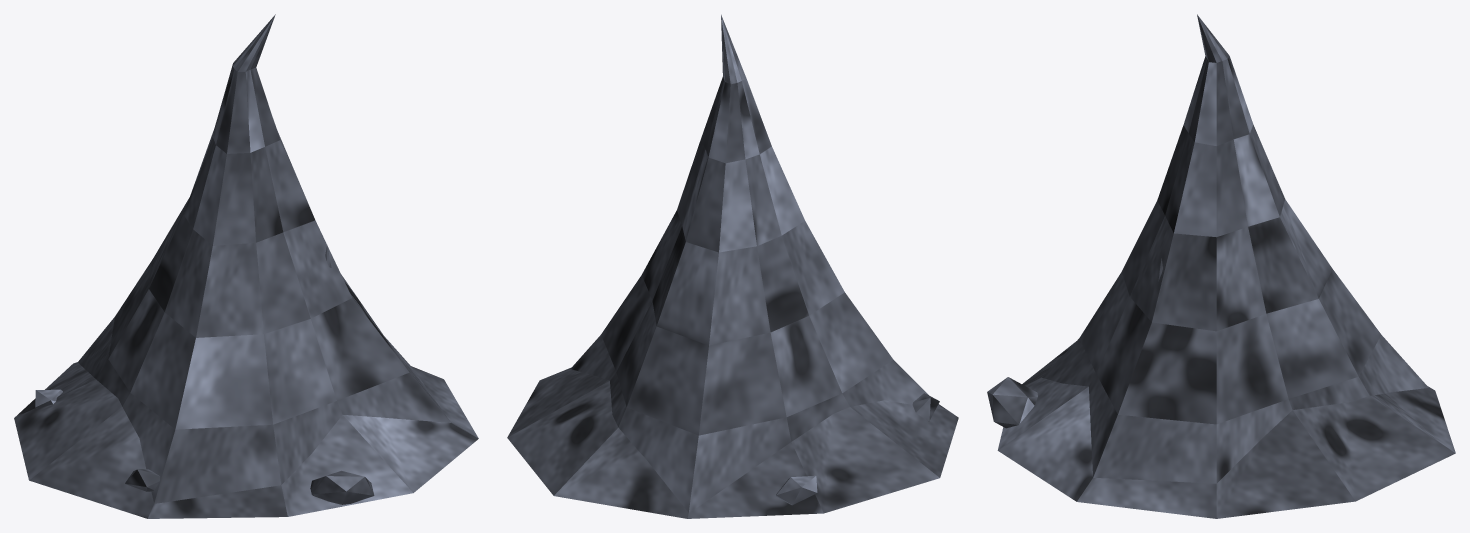
File: MountainB.fbx
The picture shows the model from 3 angles, left to right: view 1: azimuth 30°, elevation 25°; view 2: azimuth 150°, elevation 25°; view 3: azimuth 270°, elevation 25°; orthographic projection. The views are drawn at different scales.
Visible parts, largest first — view 1: MountainB_Peak, MountainB_Skirt, MountainB_Boulder_02, MountainB_Boulder_01; view 2: MountainB_Peak, MountainB_Skirt, MountainB_Boulder_04; view 3: MountainB_Peak, MountainB_Skirt, MountainB_Boulder_02.
Part boxes in pixels (left/top/right/bottom): MountainB_Peak: left=78, top=14, right=450, bottom=503; MountainB_Skirt: left=14, top=362, right=478, bottom=518; MountainB_Boulder_02: left=310, top=470, right=374, bottom=504; MountainB_Boulder_01: left=125, top=469, right=159, bottom=491; MountainB_Peak: left=570, top=14, right=943, bottom=512; MountainB_Skirt: left=507, top=367, right=958, bottom=518; MountainB_Boulder_04: left=776, top=475, right=817, bottom=505; MountainB_Peak: left=1042, top=14, right=1428, bottom=483; MountainB_Skirt: left=997, top=341, right=1455, bottom=518; MountainB_Boulder_02: left=987, top=377, right=1037, bottom=428.
Size of the model in its own units: 7.31 by 7.2 by 7.12.
